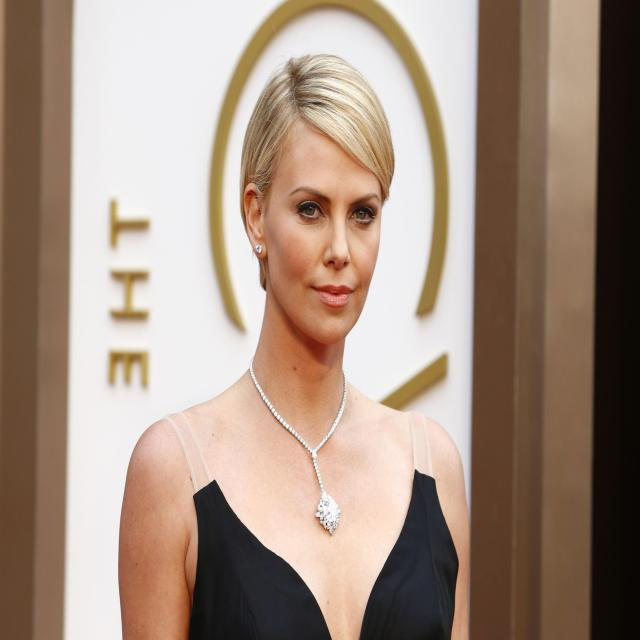no-earmuff: (234, 154, 282, 279)
